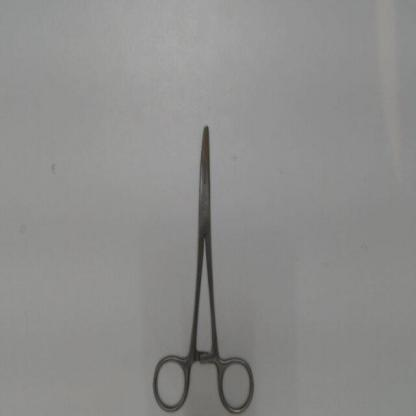Crile Artery Forceps: (148, 115, 260, 416)
